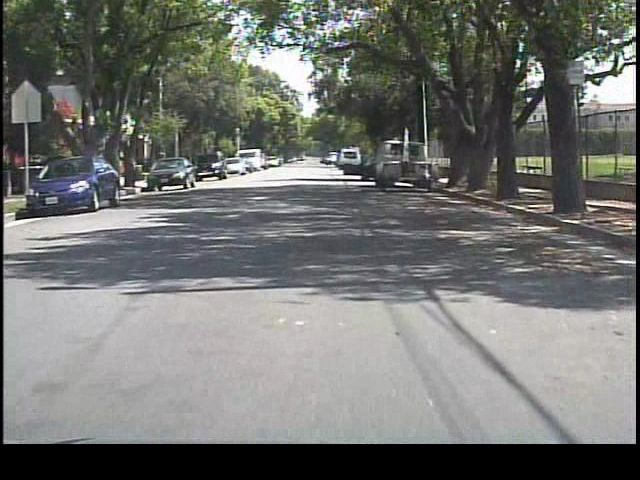person: (360, 156, 375, 183)
